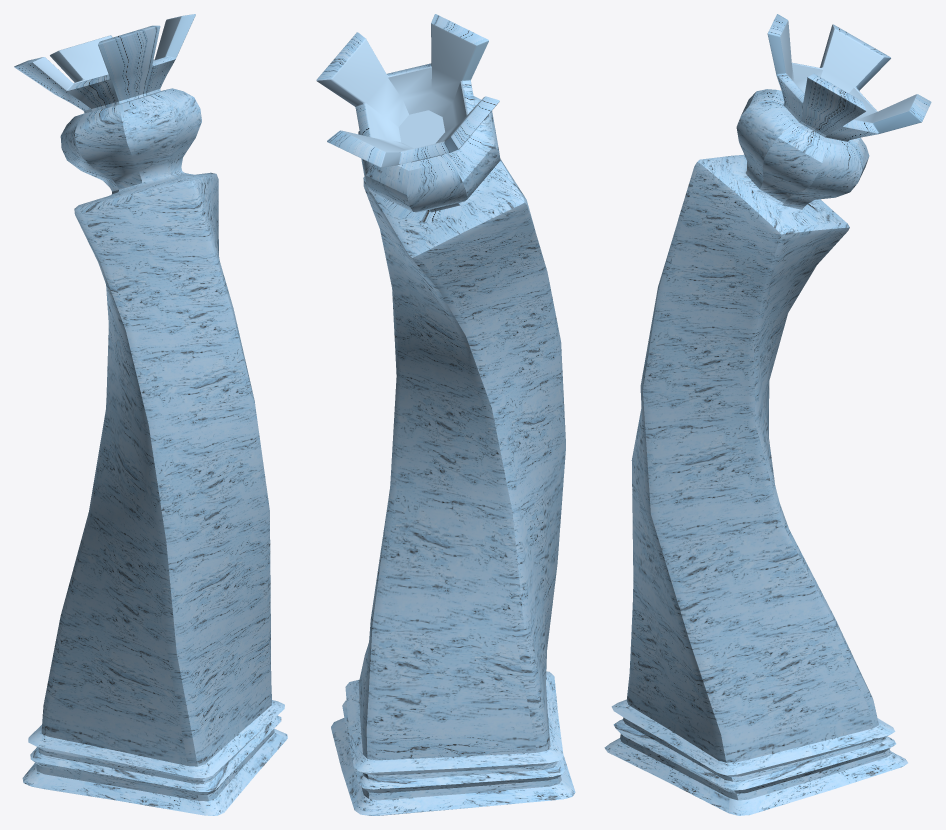
Rendered from Reina.fbx.
3 views of the same model, side by side, from view 1: azimuth 30°, elevation 25°; view 2: azimuth 150°, elevation 25°; view 3: azimuth 270°, elevation 25° (orthographic). The views are drawn at different scales.
Parts seen in each view (by area): view 1: Reina; view 2: Reina; view 3: Reina.
Part boxes in pixels (x1,y1,x2,y2): Reina: [14, 14, 287, 815]; Reina: [316, 14, 575, 815]; Reina: [604, 14, 931, 815].
Bounding box in the file's own units: 88.13 × 250 × 101.
Materials: 1 (1 with a texture image).
